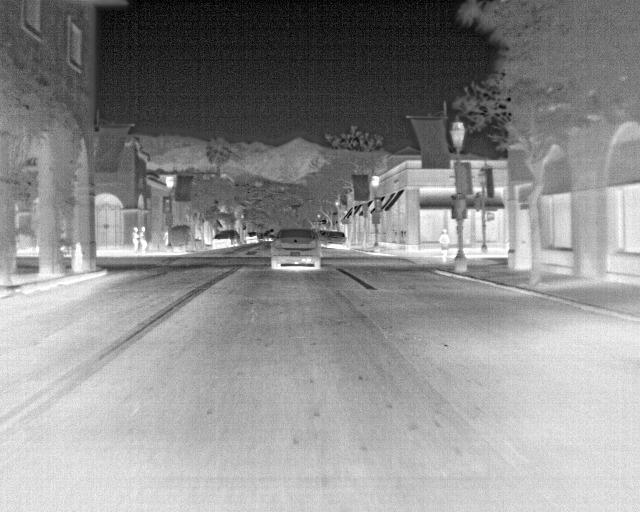bicycle: (268, 229, 322, 271), (322, 233, 344, 249), (209, 233, 232, 248), (244, 229, 259, 244)
empty: (436, 226, 452, 268), (129, 225, 142, 253), (138, 224, 150, 253)
